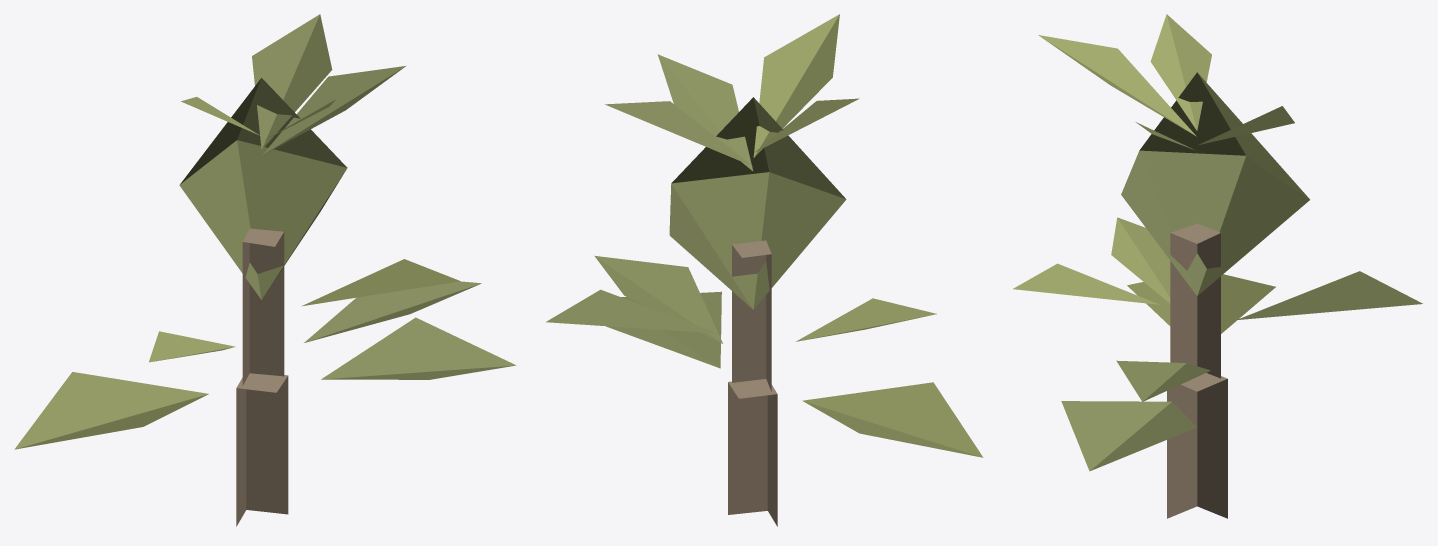
File: shu.longnao@seedling__autumn.glb
3 views of the same model, side by side, from view 1: azimuth 30°, elevation 25°; view 2: azimuth 150°, elevation 25°; view 3: azimuth 270°, elevation 25° (orthographic). The views are drawn at different scales.
Visible parts, largest first — view 1: shu.longnao@seedling__autumn; view 2: shu.longnao@seedling__autumn; view 3: shu.longnao@seedling__autumn.
Boxes of the visible parts, x1,y1,x2,y2 form: shu.longnao@seedling__autumn: (14, 14, 516, 526); shu.longnao@seedling__autumn: (546, 14, 983, 526); shu.longnao@seedling__autumn: (1013, 14, 1422, 518).
Bounding box in the file's own units: 2.72 × 2.77 × 2.16.
